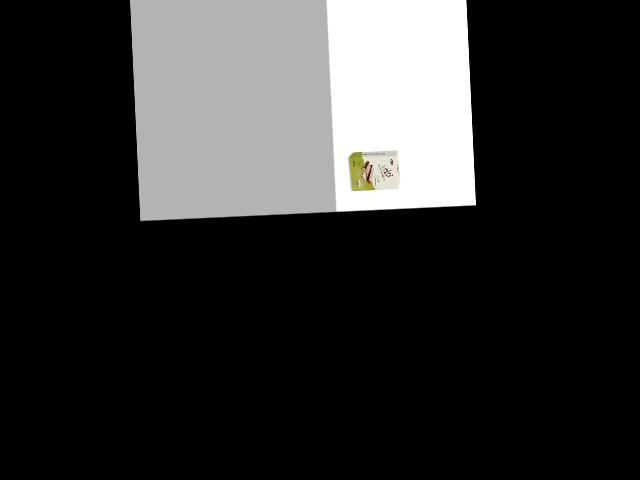chocolate: (347, 147, 400, 192)
